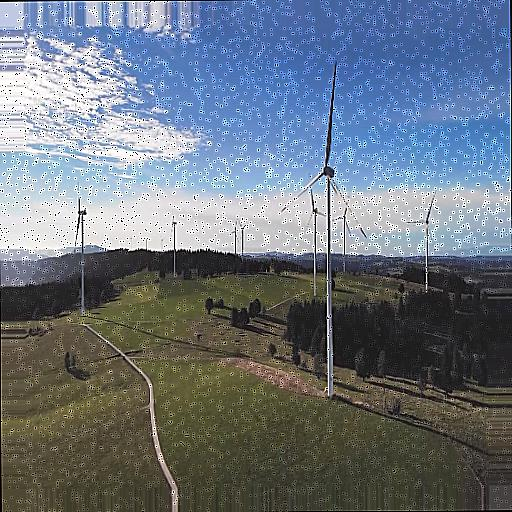wind turbine: (279, 59, 368, 391), (405, 193, 441, 292)
